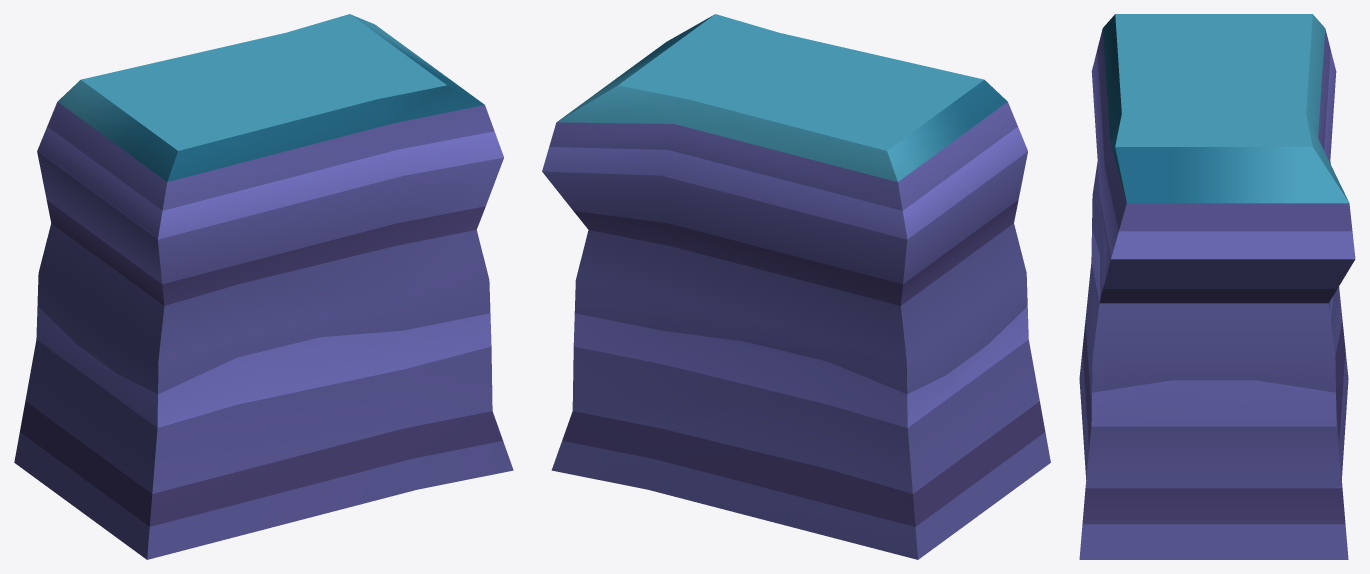
Rendered from StoneWall011.fbx.
3 renders of one model, left to right at view 1: azimuth 30°, elevation 25°; view 2: azimuth 150°, elevation 25°; view 3: azimuth 270°, elevation 25°, orthographic.
Visible parts, largest first — view 1: StoneWall011; view 2: StoneWall011; view 3: StoneWall011.
Part boxes in pixels (left/top/right/bottom): StoneWall011: left=14, top=14, right=513, bottom=559; StoneWall011: left=542, top=14, right=1050, bottom=559; StoneWall011: left=1079, top=14, right=1355, bottom=559.
Size of the model in its own units: 456 by 449 by 289.
